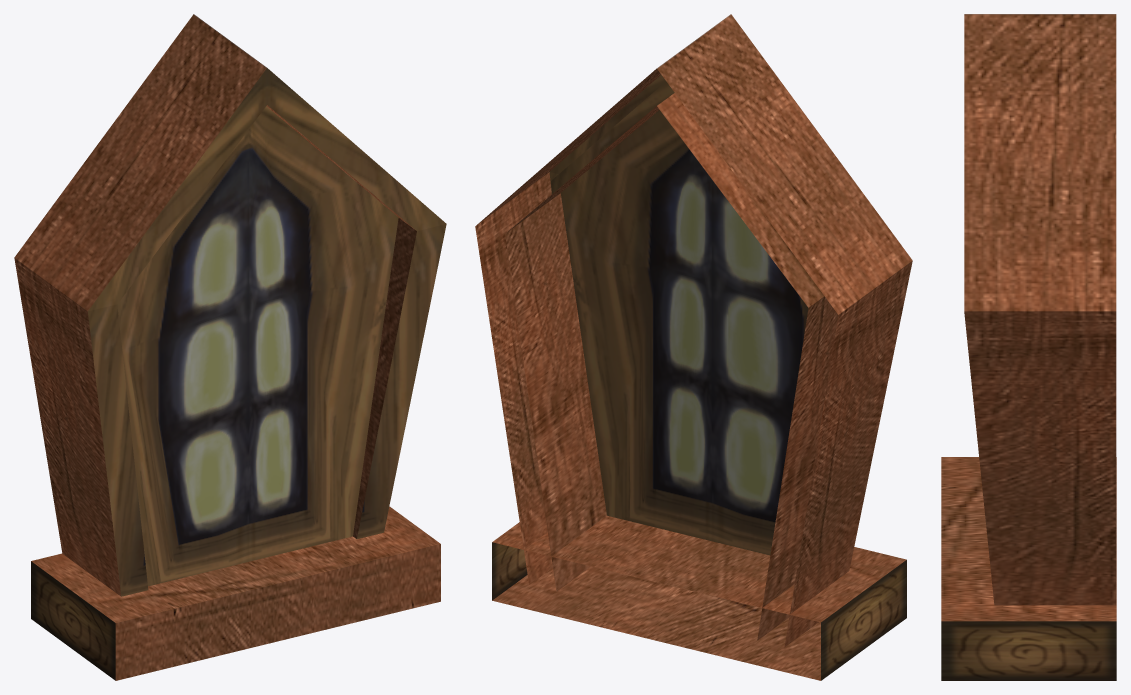
File: fanasty_mod_window02.fbx
3 views of the same model, side by side, from view 1: azimuth 30°, elevation 25°; view 2: azimuth 150°, elevation 25°; view 3: azimuth 270°, elevation 25° (orthographic). The views are drawn at different scales.
Parts seen in each view (by area): view 1: window_02; view 2: window_02; view 3: window_02.
Part boxes in pixels (bbox=[...]): window_02: bbox=[14, 14, 446, 680]; window_02: bbox=[475, 14, 912, 680]; window_02: bbox=[941, 14, 1116, 680].
Bounding box in the file's own units: 1.16 × 1.75 × 0.4748.
